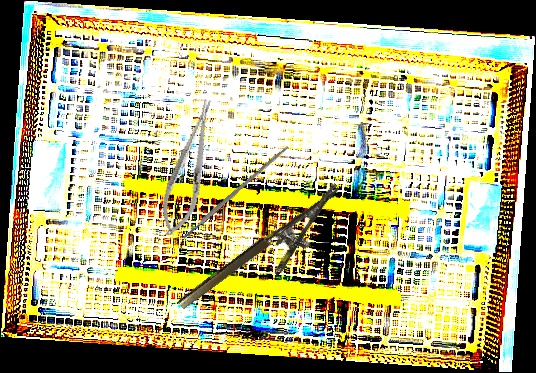Needle Holder: (175, 183, 360, 332), (153, 95, 226, 241)
Scalpel Handle: (181, 144, 290, 240)
